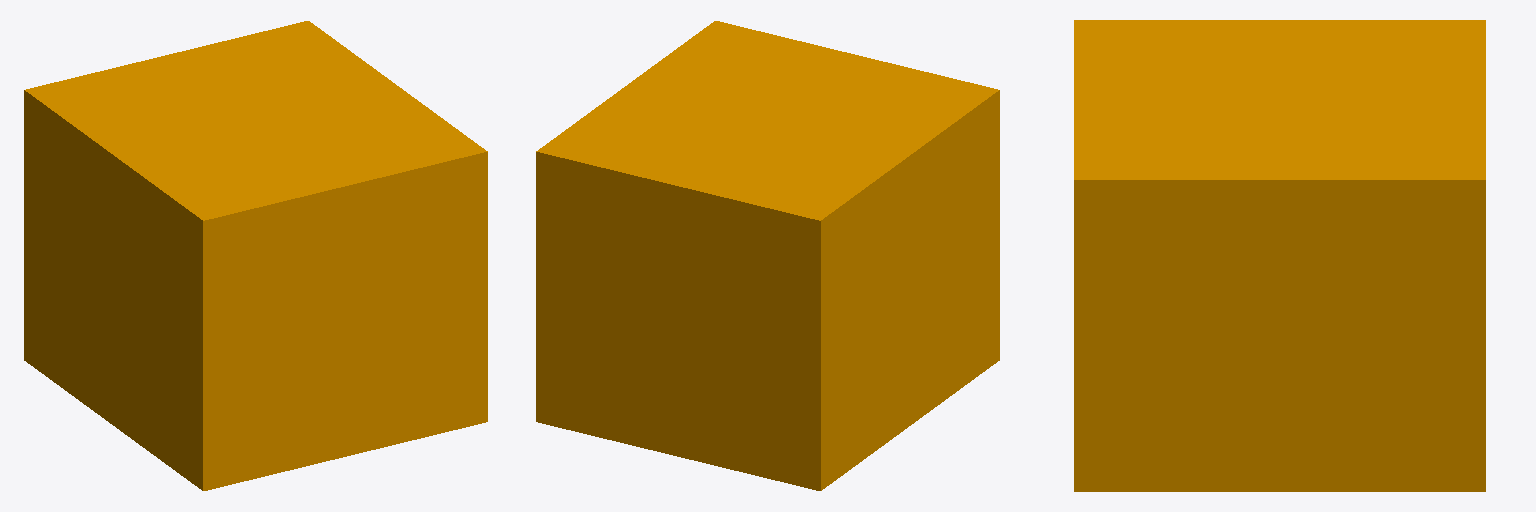
robot.urdf — object:
<robot name="object">
  <link name="object">
    <visual>
      <origin xyz="0 0 0" />
      <geometry>
        <box size="0.08800000000000002 0.09600000000000003 0.08" />
      </geometry>
    </visual>

    <collision>
      <origin xyz="0 0 0" />
      <geometry>
        <box size="0.08800000000000002 0.09600000000000003 0.08" />
      </geometry>
    </collision>

    <inertial>
      <mass value="0.05" />
      <inertia ixx="0.0001" ixy="0.0" ixz="0.0" iyy="0.0001" iyz="0.0" izz="0.0001" />
    </inertial>
  </link>
</robot>

--- Render facts (derived) ---
Views: 3 orthographic renders of the robot side by side, from view 1: azimuth 30°, elevation 25°; view 2: azimuth 150°, elevation 25°; view 3: azimuth 270°, elevation 25°.
Robot: object — 1 links, 0 joints (none); root link object; default pose: every joint at zero.
Links seen in each view (by area): view 1: object; view 2: object; view 3: object.
Boxes of the visible links, bbox=[...] form: object: bbox=[24, 21, 487, 490]; object: bbox=[536, 21, 999, 490]; object: bbox=[1074, 20, 1485, 491].
Size in the robot's own frame: 0.088 by 0.096 by 0.08 metres.
Geometry: primitives only (box / cylinder / sphere), no mesh files.